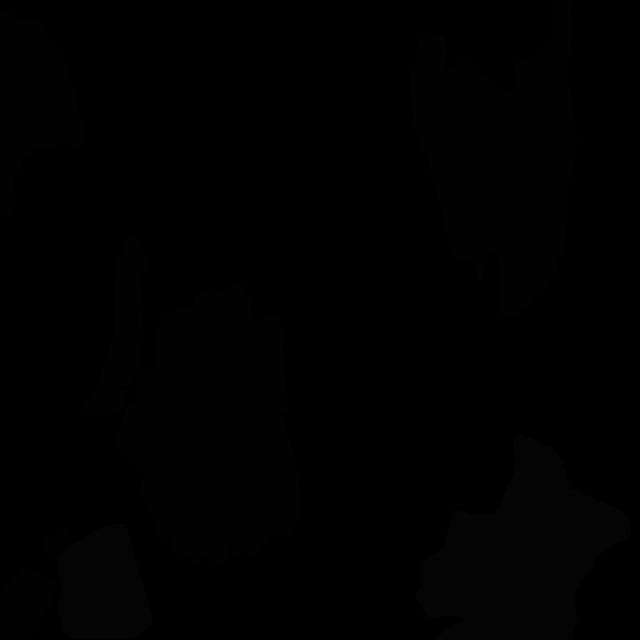cardboard: (118, 283, 302, 568), (408, 33, 560, 316), (502, 0, 578, 257), (0, 8, 84, 218), (80, 236, 148, 417), (0, 565, 60, 640), (42, 527, 74, 566)
soft_plastic: (422, 434, 630, 640), (58, 524, 152, 639), (414, 582, 532, 640)
